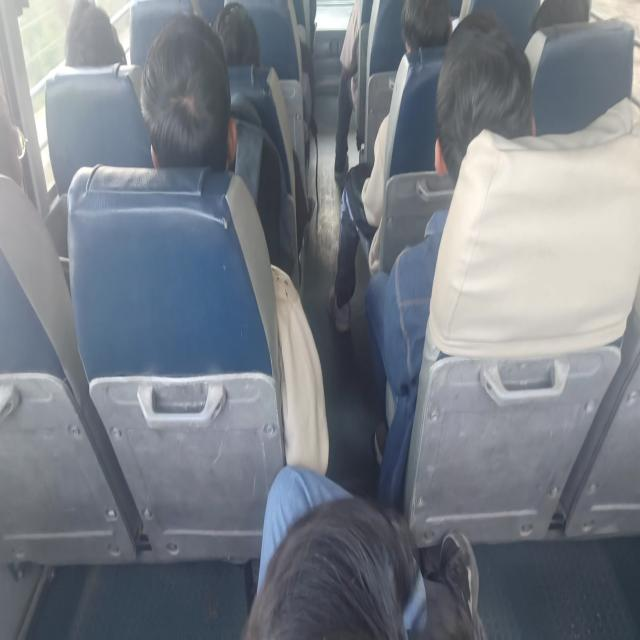person: (240, 506, 465, 640), (143, 33, 247, 186), (434, 19, 526, 189), (63, 0, 132, 83), (0, 80, 41, 209), (389, 0, 467, 66), (203, 0, 266, 71), (536, 0, 597, 50)
